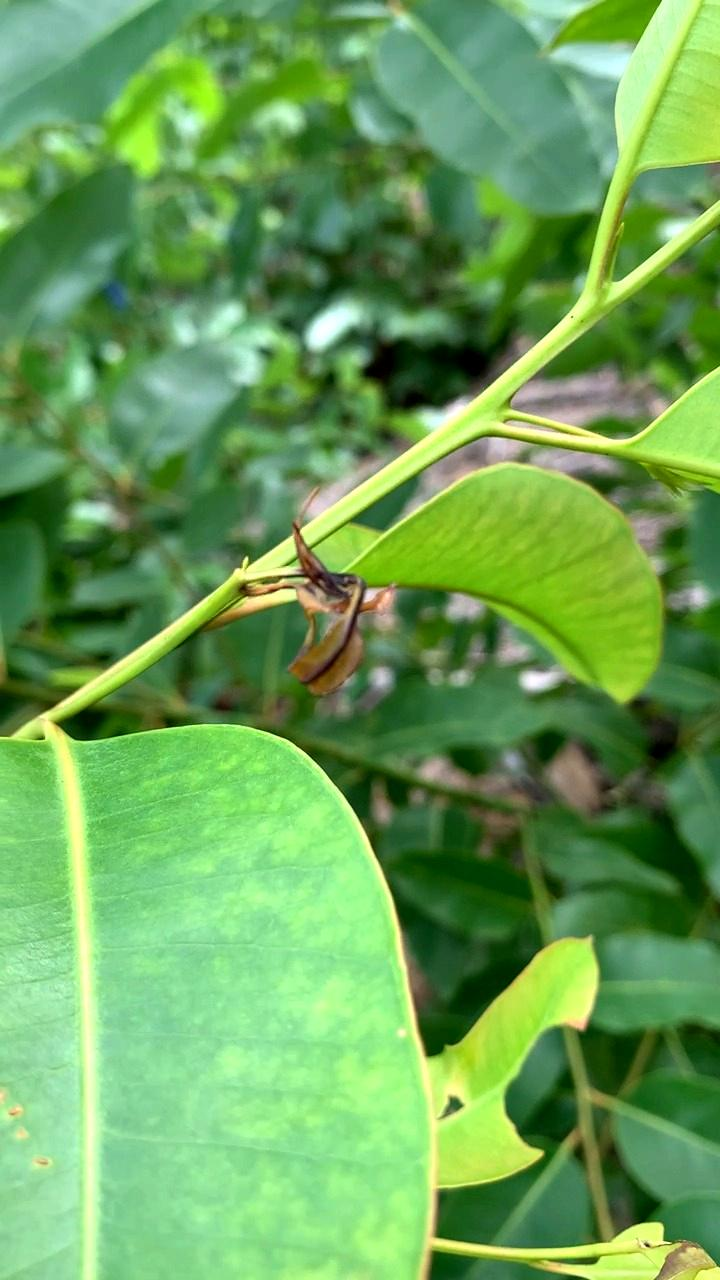Helopeltis-Withered Sprout: (226, 490, 401, 711)
